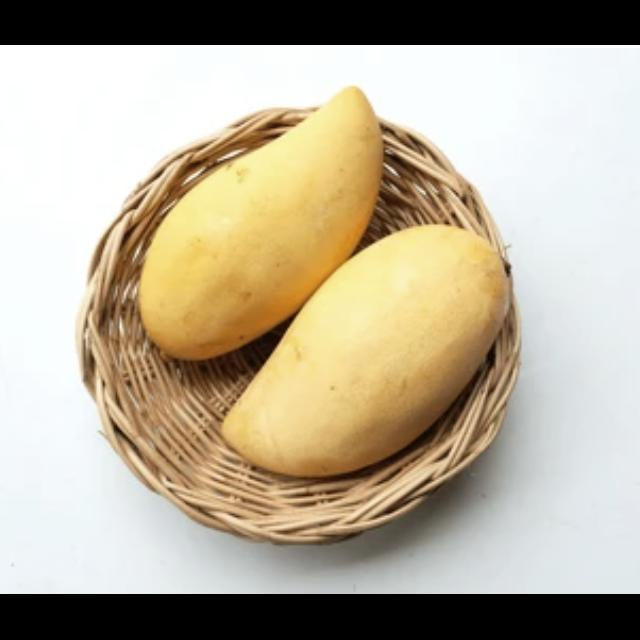mango: (222, 225, 508, 480), (140, 83, 383, 361)
